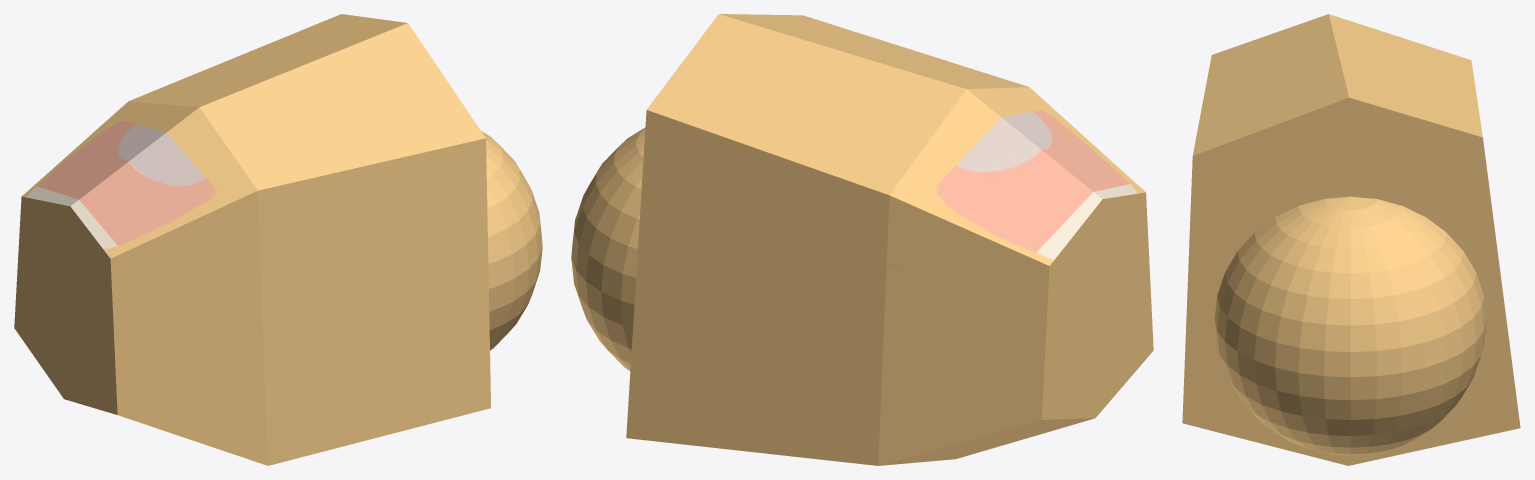
The model's file is R_thumb1.obj.
3 renders of one model, left to right at view 1: azimuth 30°, elevation 25°; view 2: azimuth 150°, elevation 25°; view 3: azimuth 270°, elevation 25°, orthographic. The views are drawn at different scales.
Parts seen in each view (by area): view 1: thumb1球.001_球.020; view 2: thumb1球.001_球.020; view 3: thumb1球.001_球.020.
Part boxes in pixels (x1=…): thumb1球.001_球.020: x1=14, y1=14, x2=542, y2=465; thumb1球.001_球.020: x1=571, y1=14, x2=1153, y2=465; thumb1球.001_球.020: x1=1182, y1=14, x2=1520, y2=465.
Bounding box in the file's own units: 0.7208 × 0.5436 × 0.4534.
